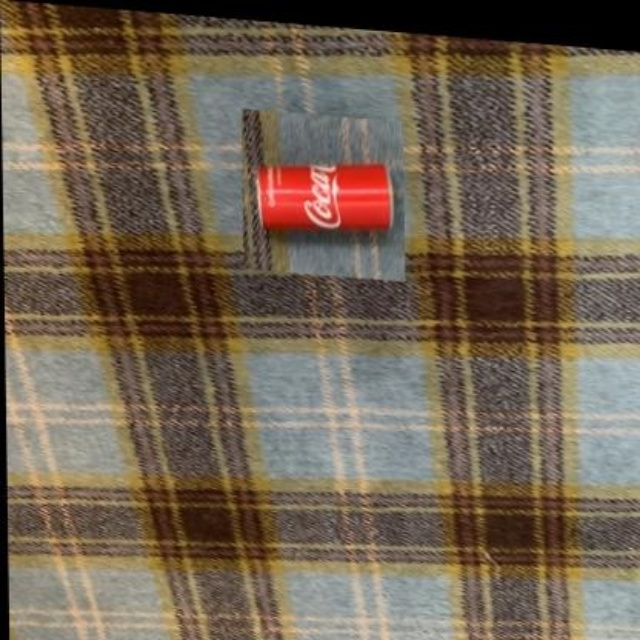trash: (257, 165, 391, 229)
